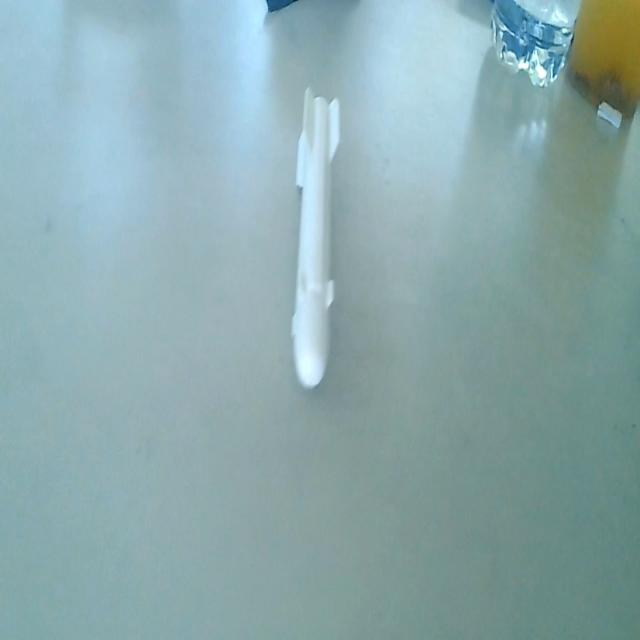Rocket: (288, 79, 344, 396)
